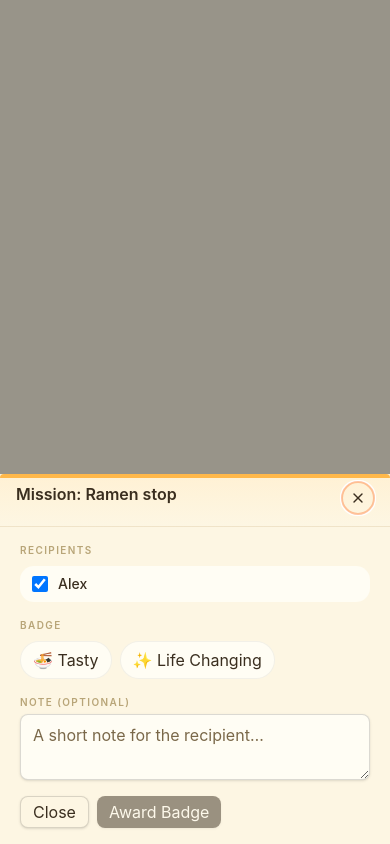
AwardBadgeSheet › blocks awarding a badge a recipient already earned for this source
This screenshot has width=390, height=844.
Click the button "🍜 Tasty".
click(66, 660)  # box [20,641,112,679]
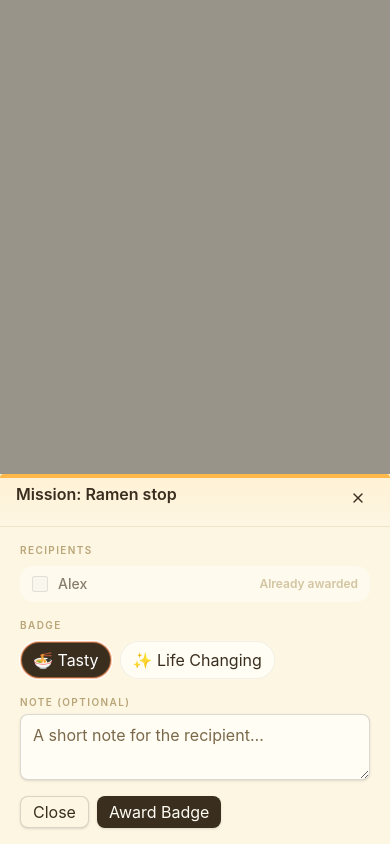
Expected: the text "Already awarded" is shown, [259,576,358,592]
Click the button "Award Badge".
click(159, 812)  # box [97,796,221,828]
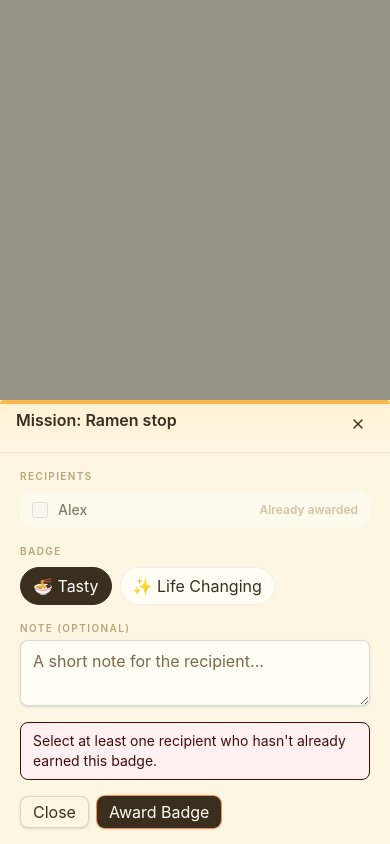
Expected: the text "Select at least one recipient who hasn't already earned this badge." is shown, [20,722,370,780]
